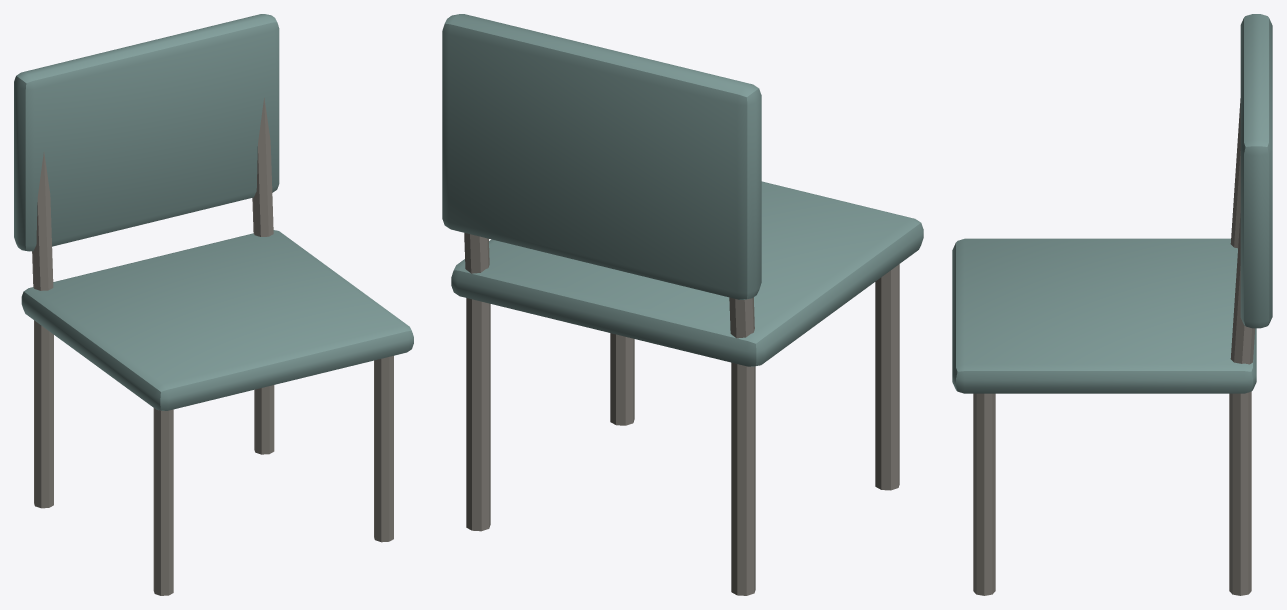
The model's file is chair.glb.
The picture shows the model from 3 angles, left to right: view 1: azimuth 30°, elevation 25°; view 2: azimuth 150°, elevation 25°; view 3: azimuth 270°, elevation 25°; orthographic projection. The views are drawn at different scales.
Visible parts, largest first — view 1: paint, steel_dark; view 2: paint, steel_dark; view 3: paint, steel_dark.
Part boxes in pixels (x1=…): paint: x1=14, y1=14, x2=413, y2=410; steel_dark: x1=32, y1=98, x2=393, y2=595; paint: x1=442, y1=14, x2=923, y2=366; steel_dark: x1=464, y1=233, x2=899, y2=595; paint: x1=952, y1=14, x2=1272, y2=393; steel_dark: x1=973, y1=98, x2=1255, y2=595.
Bounding box in the file's own units: 0.4 × 0.63 × 0.4.
